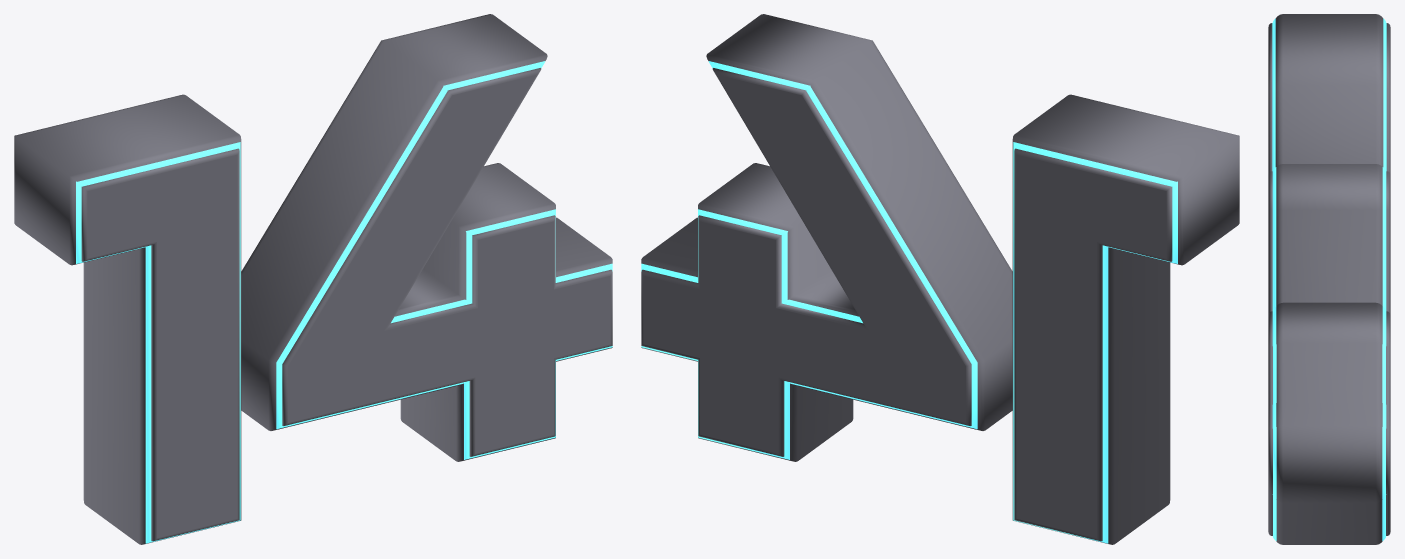
The model's file is Number 14.fbx.
3 views of the same model, side by side, from view 1: azimuth 30°, elevation 25°; view 2: azimuth 150°, elevation 25°; view 3: azimuth 270°, elevation 25° (orthographic). The views are drawn at different scales.
Parts seen in each view (by area): view 1: N_14_smaller, N_14_side, N_14_border; view 2: N_14_smaller, N_14_side, N_14_border; view 3: N_14_side, N_14_smaller, N_14_border.
Boxes of the visible parts, x1,y1,x2,y2 form: N_14_smaller: [81, 46, 612, 541]; N_14_side: [14, 14, 612, 544]; N_14_border: [76, 61, 612, 543]; N_14_smaller: [641, 46, 1172, 541]; N_14_side: [641, 14, 1239, 544]; N_14_border: [641, 61, 1177, 543]; N_14_side: [1275, 14, 1383, 544]; N_14_smaller: [1268, 23, 1390, 535]; N_14_border: [1272, 18, 1386, 540].
Bounding box in the file's own units: 81.2 × 55.97 × 18.4.
